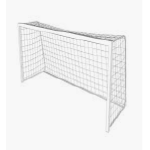goals: (17, 19, 128, 133)
